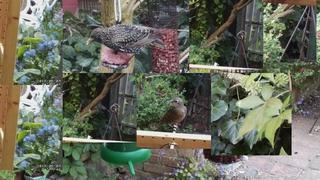starling: (87, 24, 165, 54), (154, 97, 187, 133)
